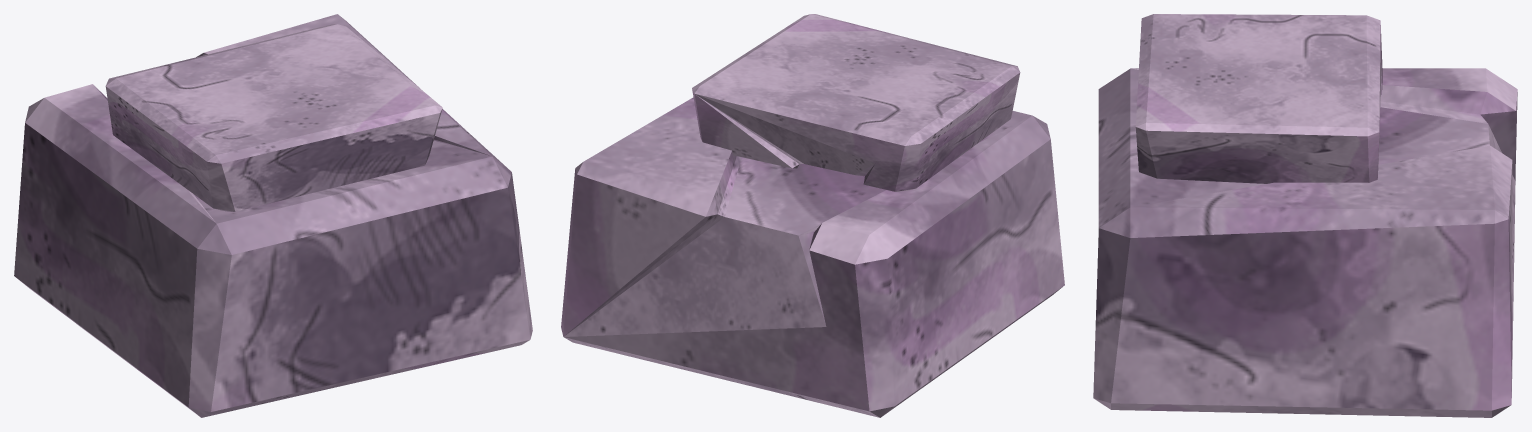
The model's file is s0_Str_Ruins_03__1__01.glb.
3 renders of one model, left to right at view 1: azimuth 30°, elevation 25°; view 2: azimuth 150°, elevation 25°; view 3: azimuth 270°, elevation 25°, orthographic. The views are drawn at different scales.
Visible parts, largest first — view 1: node_Str_Ruins_03 (1); view 2: node_Str_Ruins_03 (1); view 3: node_Str_Ruins_03 (1).
Part boxes in pixels (left/top/right/bottom): node_Str_Ruins_03 (1): left=14, top=14, right=532, bottom=417; node_Str_Ruins_03 (1): left=561, top=14, right=1064, bottom=417; node_Str_Ruins_03 (1): left=1093, top=14, right=1517, bottom=417.
Size of what is drawn, in the model's own units: 1.91 by 1.27 by 1.92.
1 material, 1 textured.
